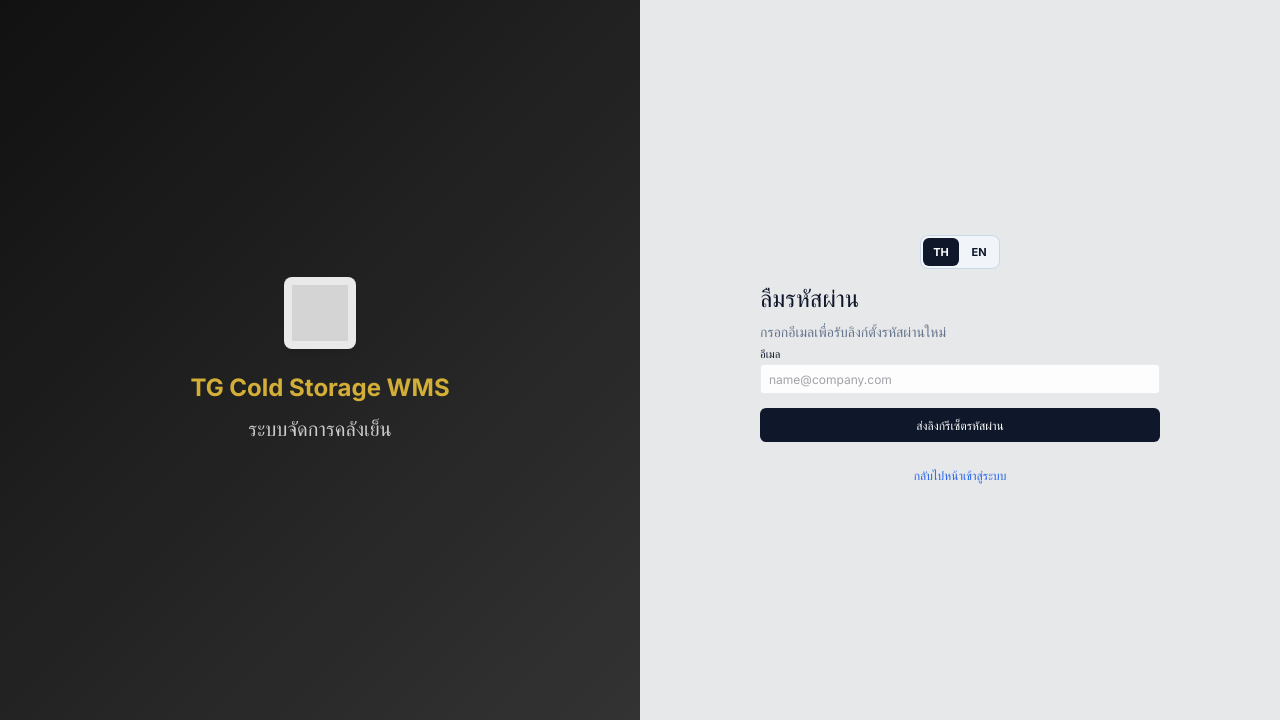
UX-AUTH-1 auth and user settings › forgot password shows validation error for invalid email submit
The image size is (1280, 720).
Step 1. Click the button with test id "forgot-password-submit-button" → (960, 425), box [760,408,1160,442]
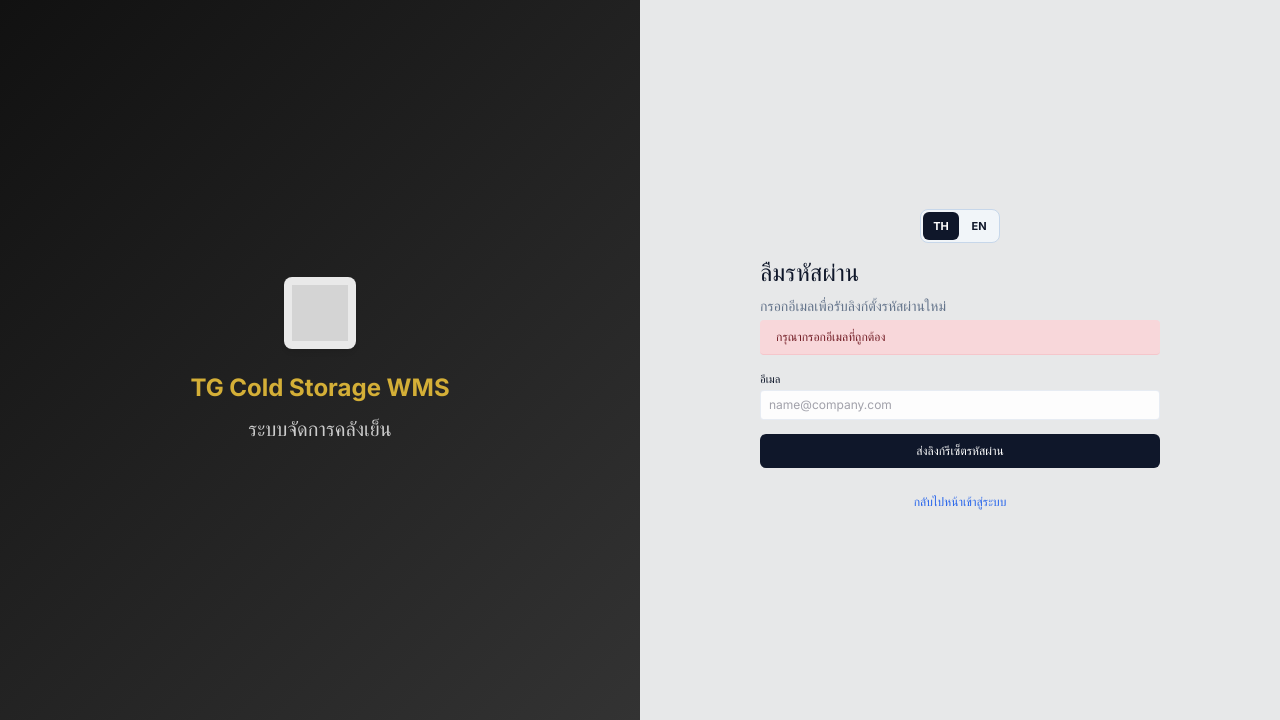
Now the message "กรุณากรอกอีเมลที่ถูกต้อง" is shown, box [760,320,1160,355]
